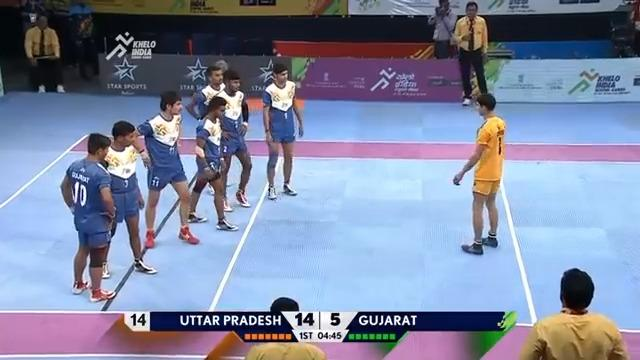Player: (135, 89, 200, 248), (518, 267, 629, 359), (59, 132, 117, 302), (100, 119, 157, 278), (186, 95, 239, 231), (261, 63, 304, 199), (213, 70, 252, 209)
Raider: (452, 92, 506, 254)
referee: (452, 1, 489, 106), (23, 13, 65, 93), (67, 0, 99, 81), (427, 0, 457, 58)
